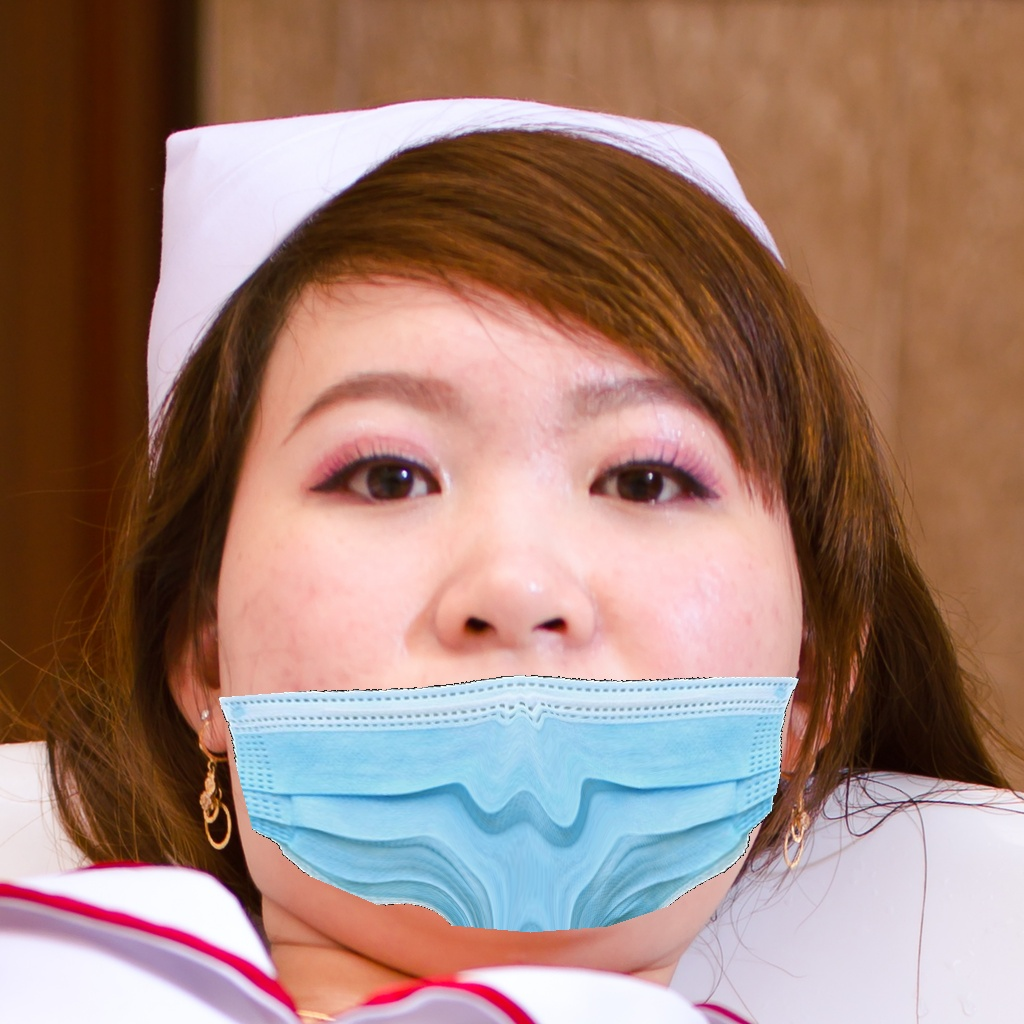mascarilla_mal_puesta: (209, 368, 837, 968)
